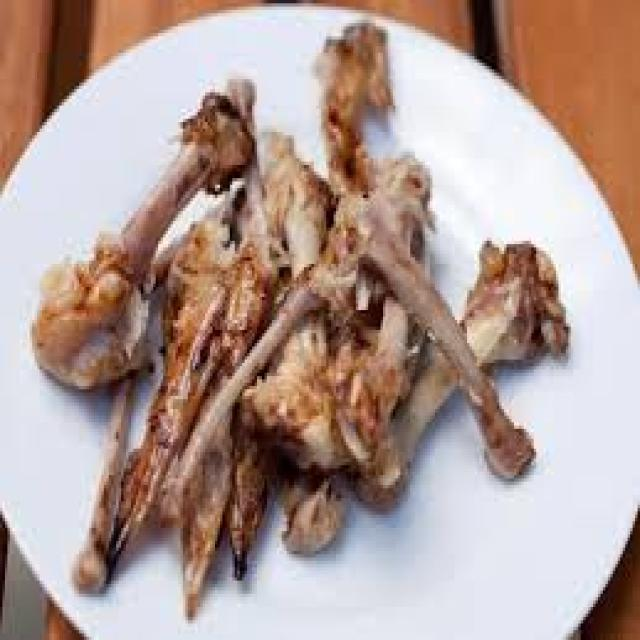Bones: (32, 23, 566, 614)
